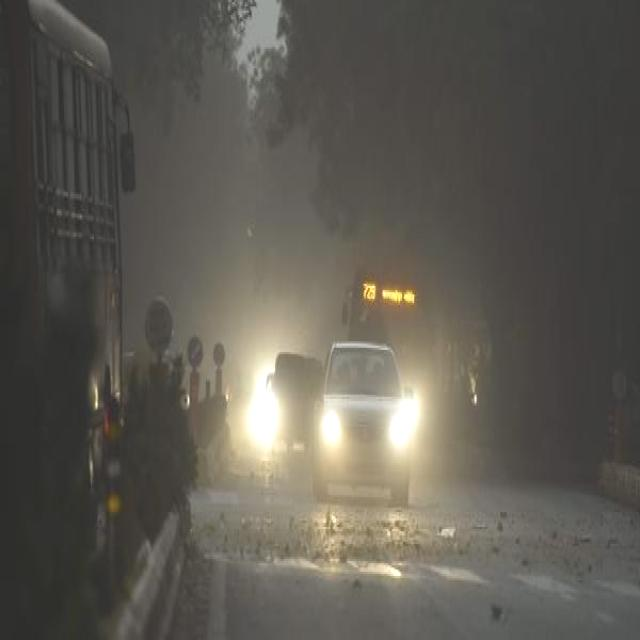Bus: (340, 277, 427, 356)
Car: (312, 342, 412, 508)
